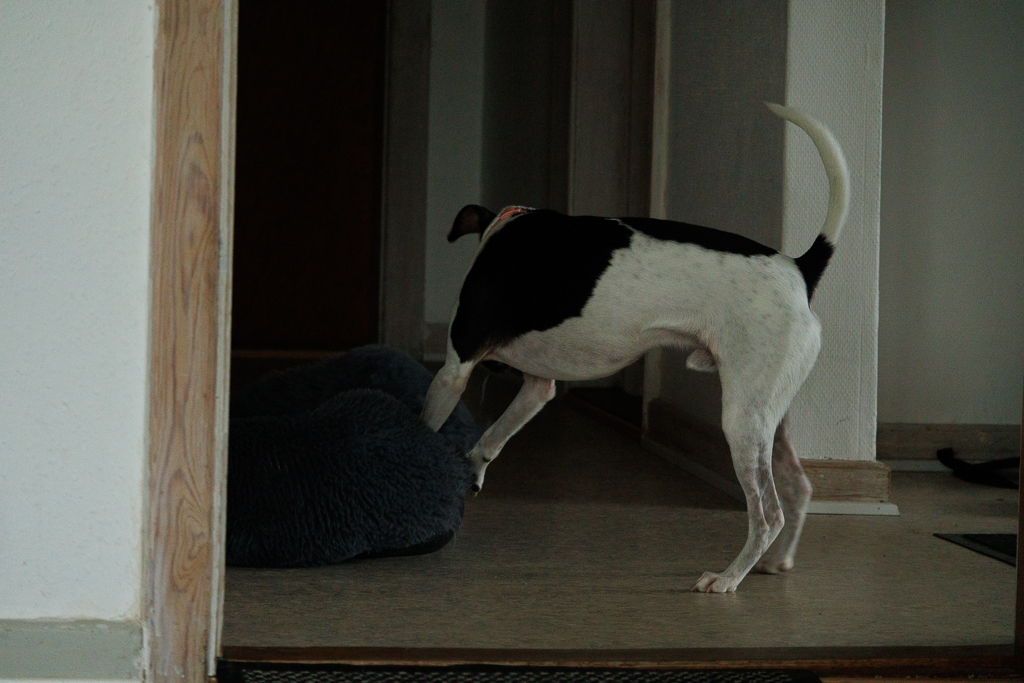Dog: (407, 95, 861, 602)
